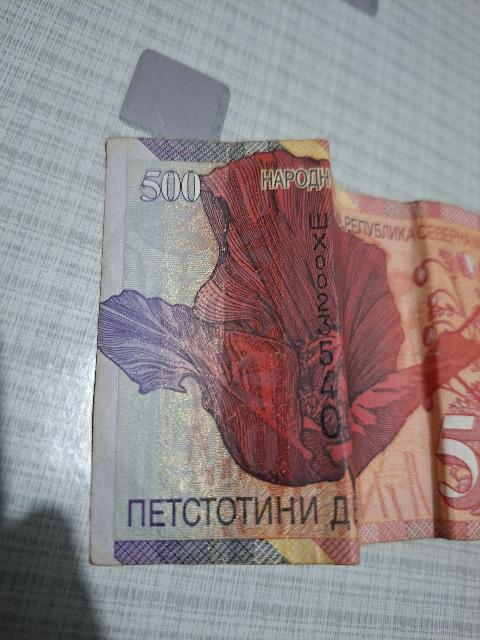note: (92, 139, 479, 564)
